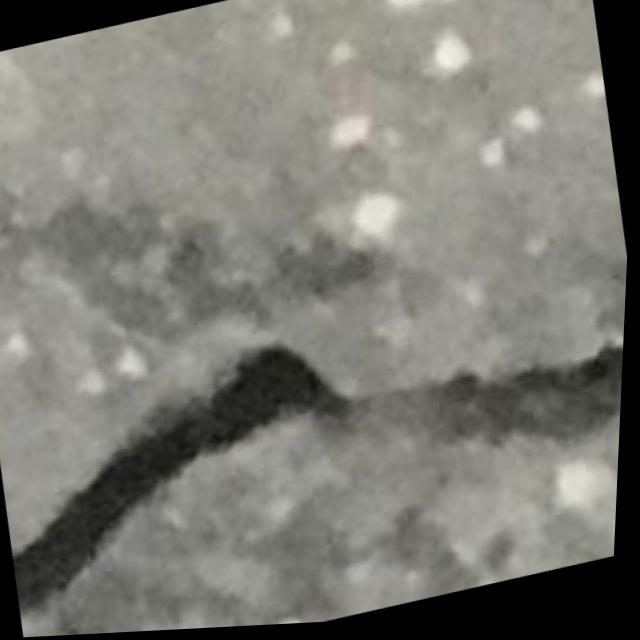Crack: (0, 262, 630, 624)
